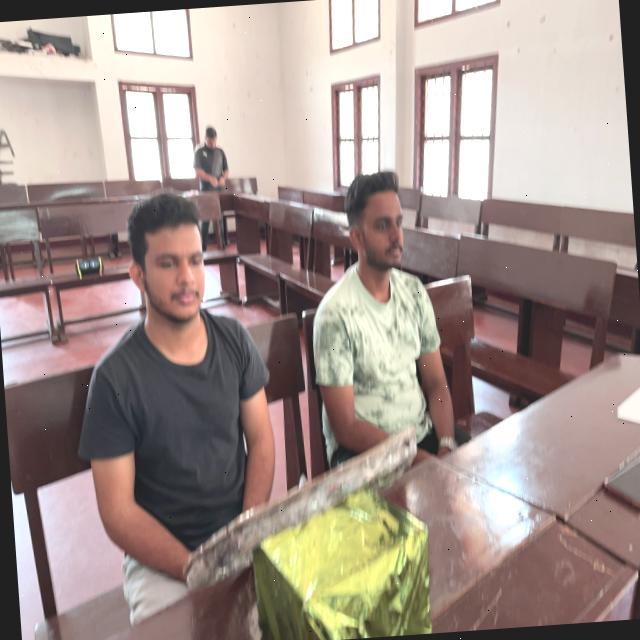Helmet: (70, 316, 284, 594), (303, 264, 465, 473)
